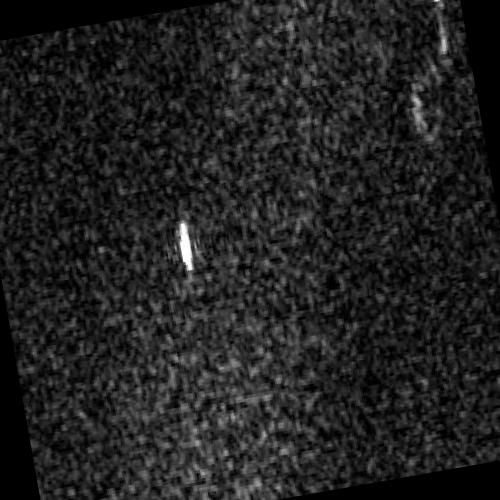ship: (178, 220, 194, 272)
